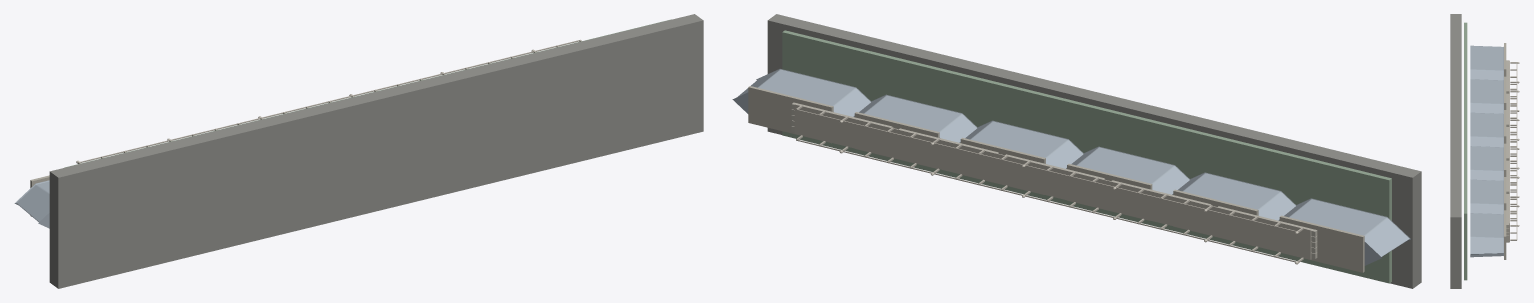
Rendered from FullBridge_5Span.fbx.
3 renders of one model, left to right at view 1: azimuth 30°, elevation 25°; view 2: azimuth 150°, elevation 25°; view 3: azimuth 270°, elevation 25°, orthographic. The views are drawn at different scales.
Parts seen in each view (by area): view 1: Foundation, Pier_0, Rail_1, OysterLayer; view 2: OysterLayer, Deck, Foundation, Pier_0, Pier_5, Pier_4, Pier_1, Pier_2, Pier_3, PierCap_0, PierCap_5, Rail_-1 (+5 smaller); view 3: Foundation, Pier_5, Pier_2, Pier_4, Pier_0, Pier_3, Pier_1, OysterLayer, Rail_1, Deck, PierCap_5, Beam_4_4 (+9 smaller).
Part boxes in pixels (x1,y1,x2,y2): Foundation: [49, 14, 703, 288]; Pier_0: [14, 180, 49, 228]; Rail_1: [80, 40, 579, 162]; OysterLayer: [64, 19, 671, 167]; OysterLayer: [782, 30, 1391, 283]; Deck: [794, 104, 1311, 259]; Foundation: [767, 14, 1421, 288]; Pier_0: [1278, 198, 1410, 265]; Pier_5: [732, 69, 870, 116]; Pier_4: [853, 94, 977, 142]; Pier_1: [1172, 172, 1295, 220]; Pier_2: [1066, 146, 1189, 194]; Pier_3: [959, 120, 1083, 168]; PierCap_0: [1279, 215, 1364, 272]; PierCap_5: [748, 86, 833, 143]; Rail_-1: [796, 139, 1296, 262]; Foundation: [1450, 14, 1461, 288]; Pier_5: [1470, 213, 1503, 257]; Pier_2: [1470, 112, 1503, 147]; Pier_4: [1470, 179, 1503, 214]; Pier_0: [1470, 45, 1503, 80]; Pier_3: [1470, 146, 1503, 180]; Pier_1: [1470, 79, 1503, 113]; OysterLayer: [1464, 22, 1467, 280]; Rail_1: [1516, 63, 1517, 220]; Deck: [1509, 60, 1509, 242]; PierCap_5: [1504, 210, 1506, 259]; Beam_4_4: [1506, 194, 1509, 228].
Size of the model in its own units: 86.36 by 14 by 12.24.
